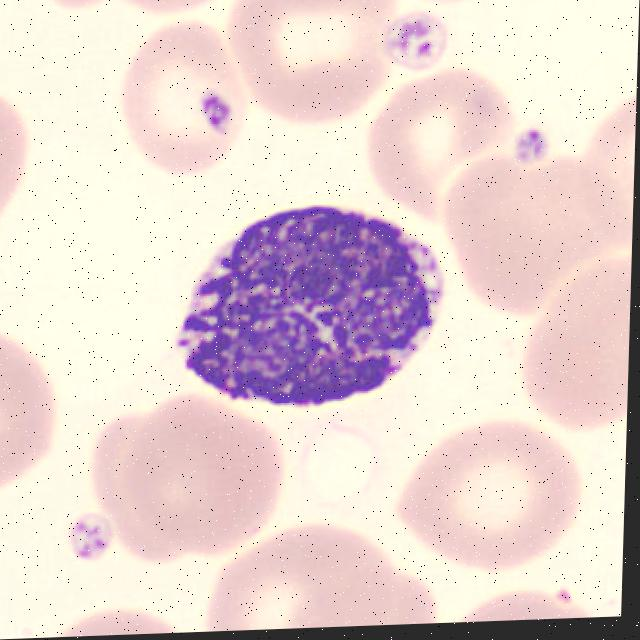basophil: (162, 186, 458, 447)
platelets: (383, 3, 452, 72), (65, 509, 116, 574), (502, 131, 559, 184), (193, 92, 235, 136)
rbc: (385, 418, 585, 580), (113, 392, 290, 566), (462, 158, 626, 317), (113, 12, 258, 180), (507, 253, 632, 431), (205, 516, 396, 632), (91, 401, 213, 576), (224, 0, 404, 115), (352, 74, 514, 198), (0, 322, 67, 489), (285, 559, 442, 629), (570, 83, 637, 244), (45, 590, 195, 637), (0, 78, 50, 218), (445, 585, 595, 623), (104, 0, 233, 27), (39, 0, 118, 19), (387, 0, 515, 11), (0, 583, 5, 640)
